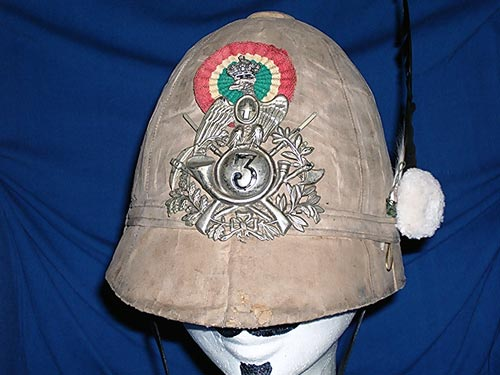helmet: (136, 17, 417, 325)
